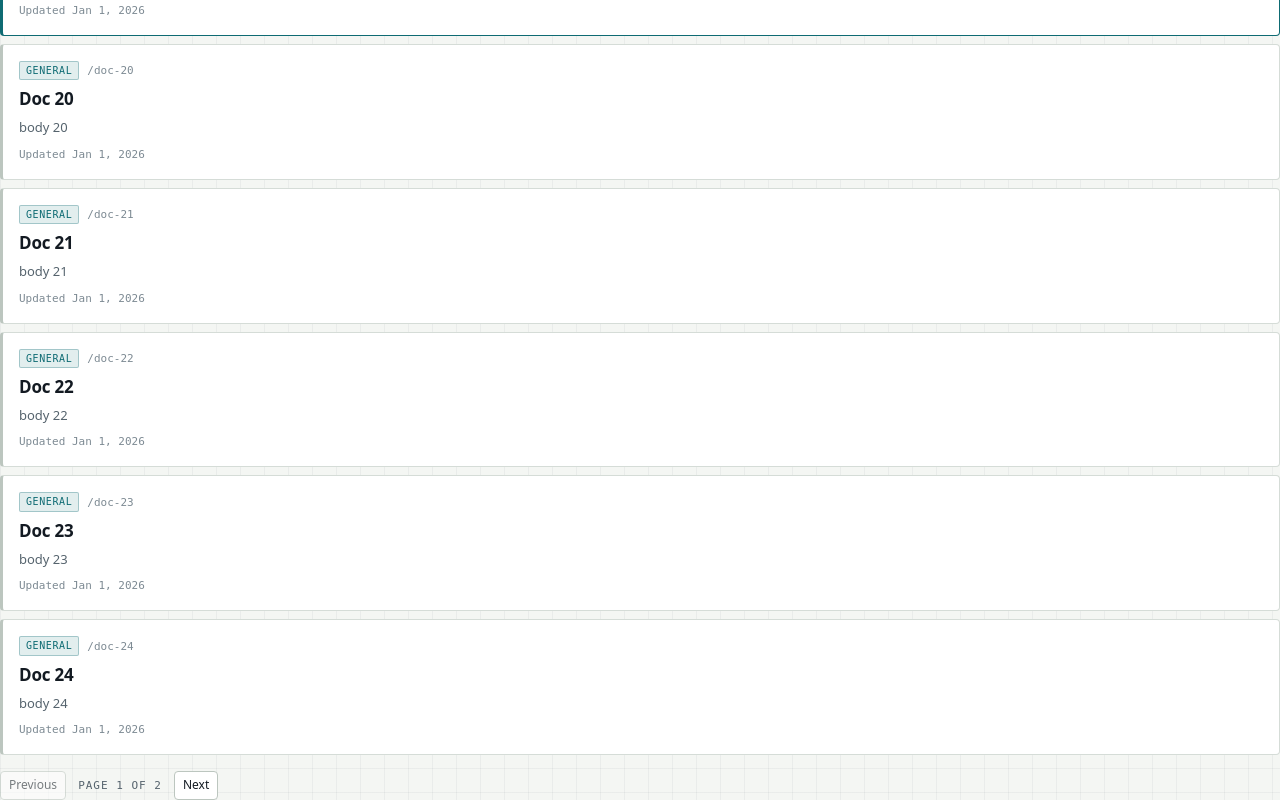
DocumentListPage paging › can go back to the first page
(page scrolled)
What coordinates should you click on to do the following:
click the button "Next"
I would click on:
 (196, 786)
Its box is [174, 771, 218, 799].
(page scrolled)
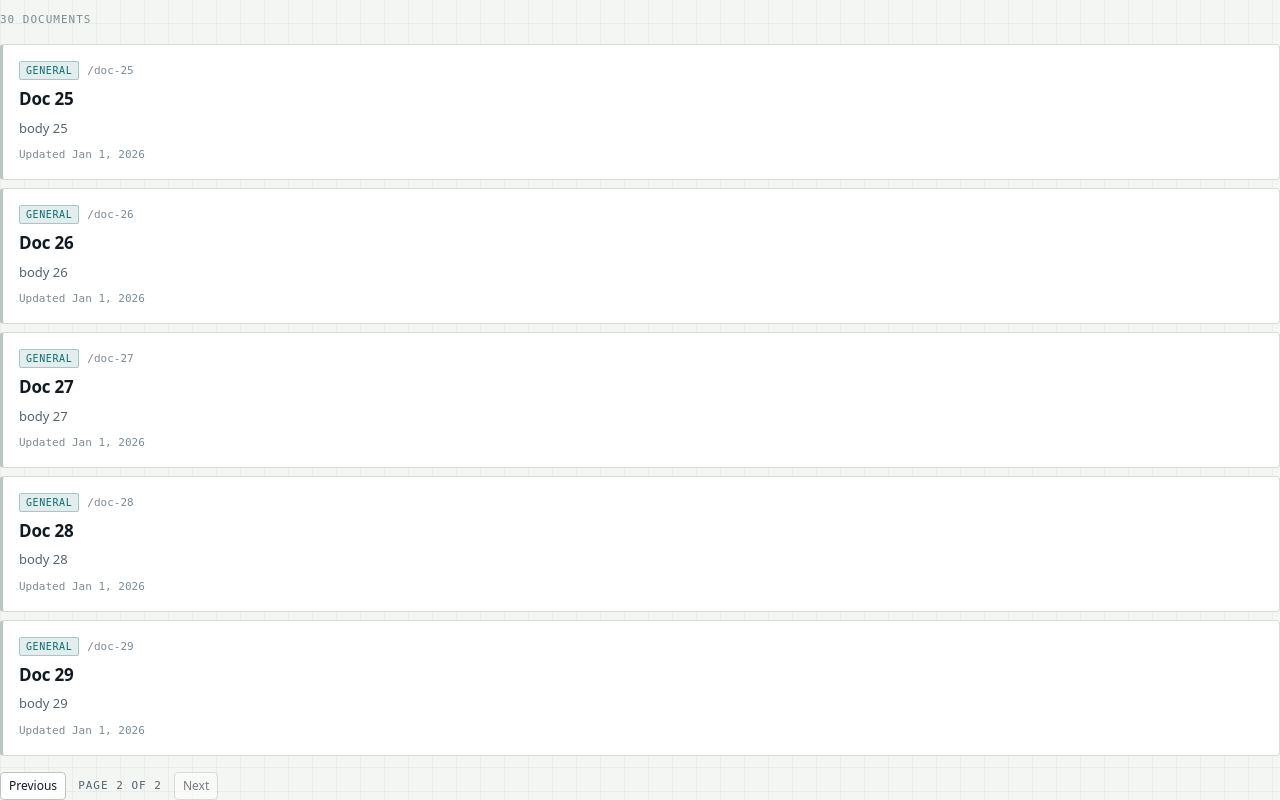
Now the heading "Doc 25" is shown, box [19, 87, 74, 110]
What coordinates should you click on to do the following:
click the button "Previous"
I would click on:
 (33, 786)
Its box is [0, 772, 66, 799].
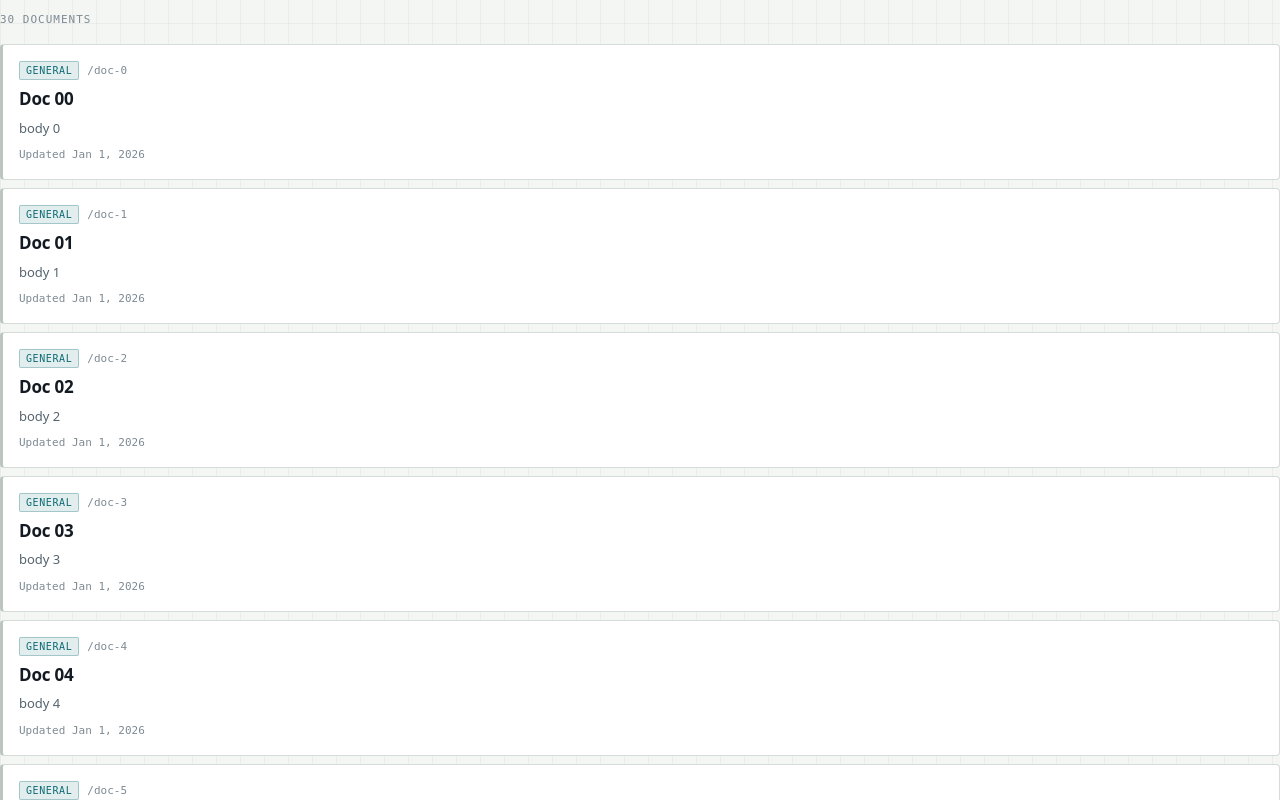
Now the heading "Doc 00" is shown, box [19, 87, 74, 110]
